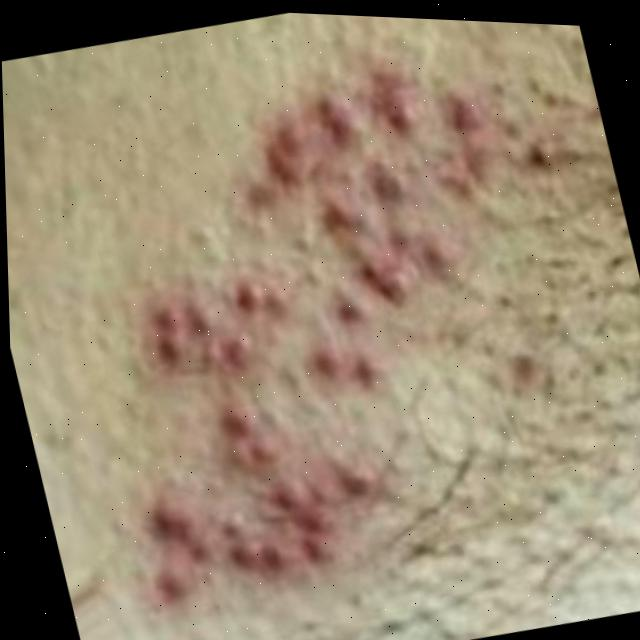Shingles: (33, 31, 603, 640)
